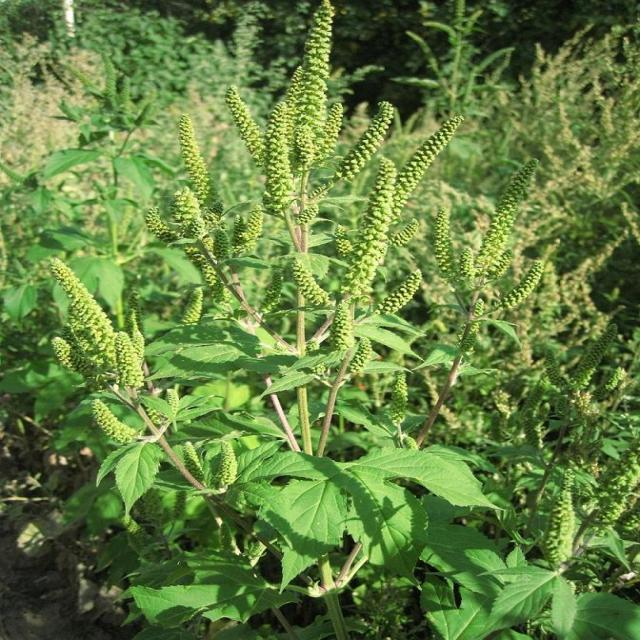ambrosia: (157, 107, 533, 433), (0, 186, 236, 469), (229, 0, 464, 243), (368, 153, 603, 348)
